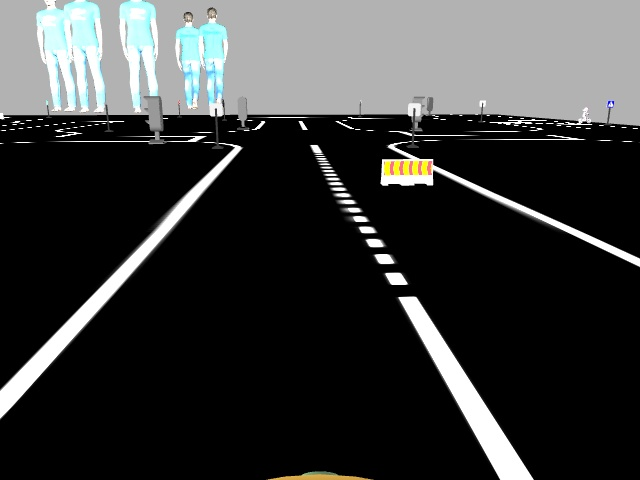ClosedRoadStand: (381, 158, 432, 183)
